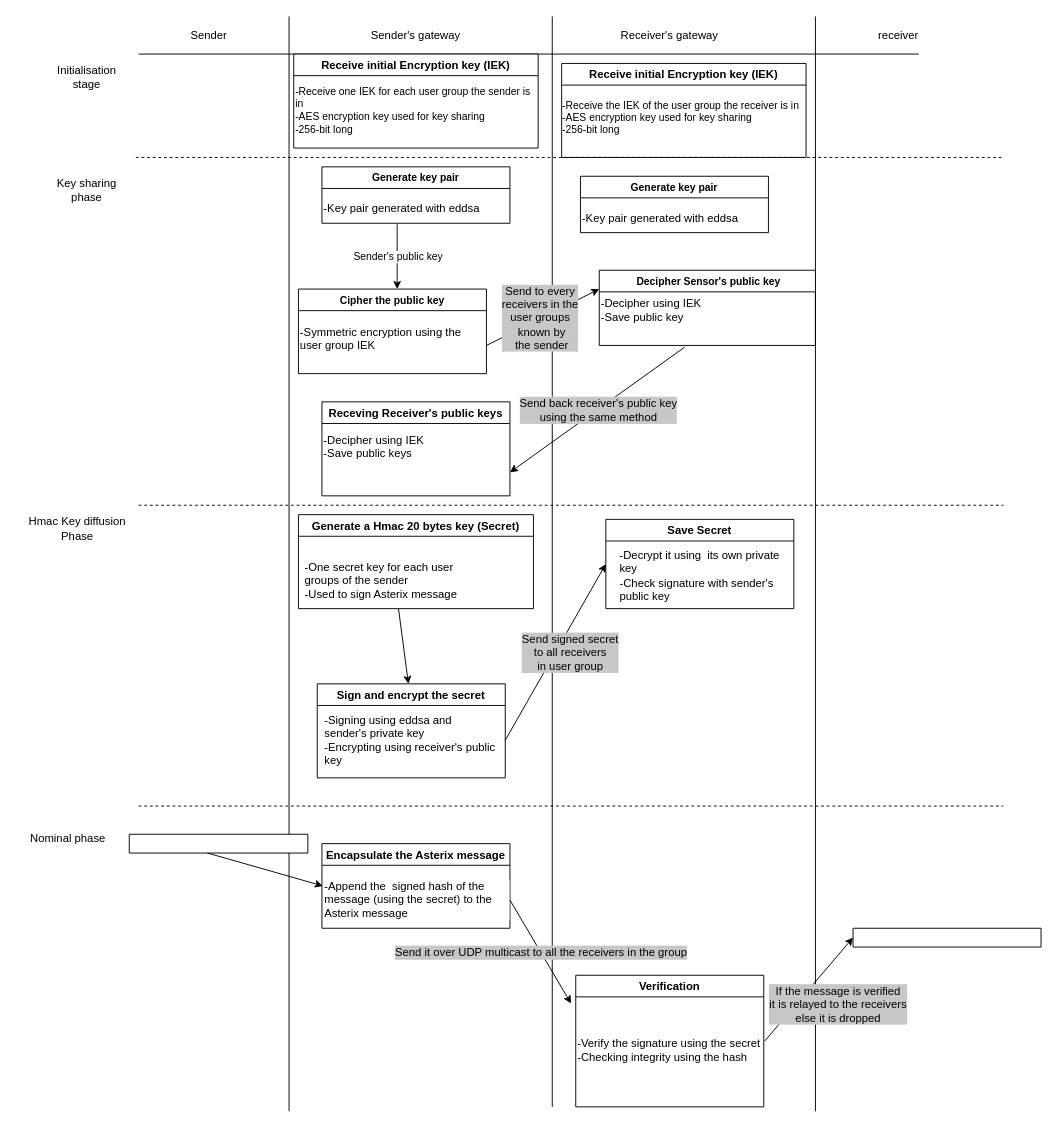
The diagram is 1058 pixels wide and 1129 high, and some of its shapes have lost their labels. Here are the shapes that lost their labels. From the top down, the centre of each, then its label:
[218,843]: Generate Asterix message
[946,937]: Normal use of an asterix message
